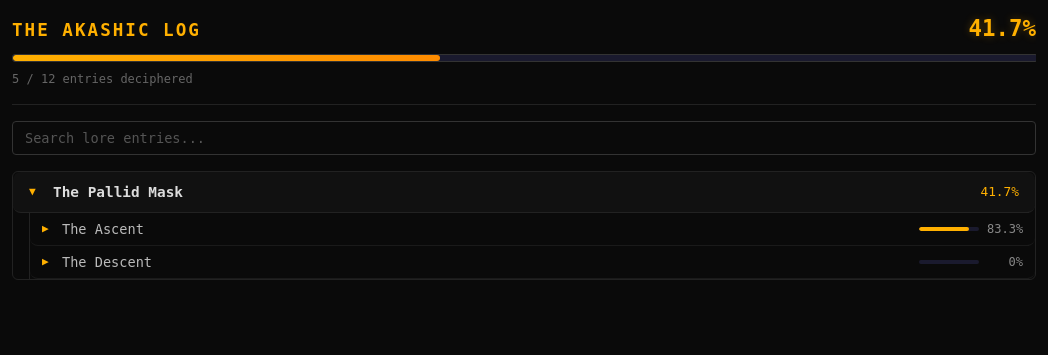
Scenario: AkashicLog Component › expands chapter to show scenes
# Wait for chapters, then click first chapter
What coordinates should you click on to do the following:
click the text "The Ascent"
I would click on:
 (103, 229)
Its box is [62,221,144,237].
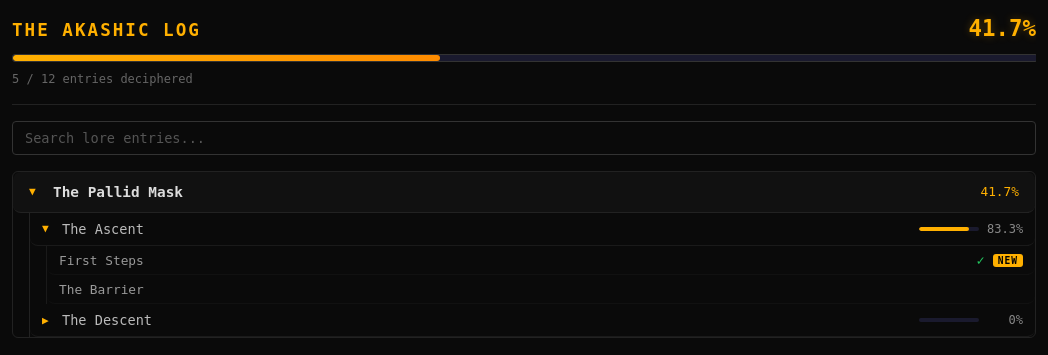
Expected: the text "First Steps" is shown, [59,252,144,268]
Expected: the text "The Barrier" is shown, [59,282,144,297]
